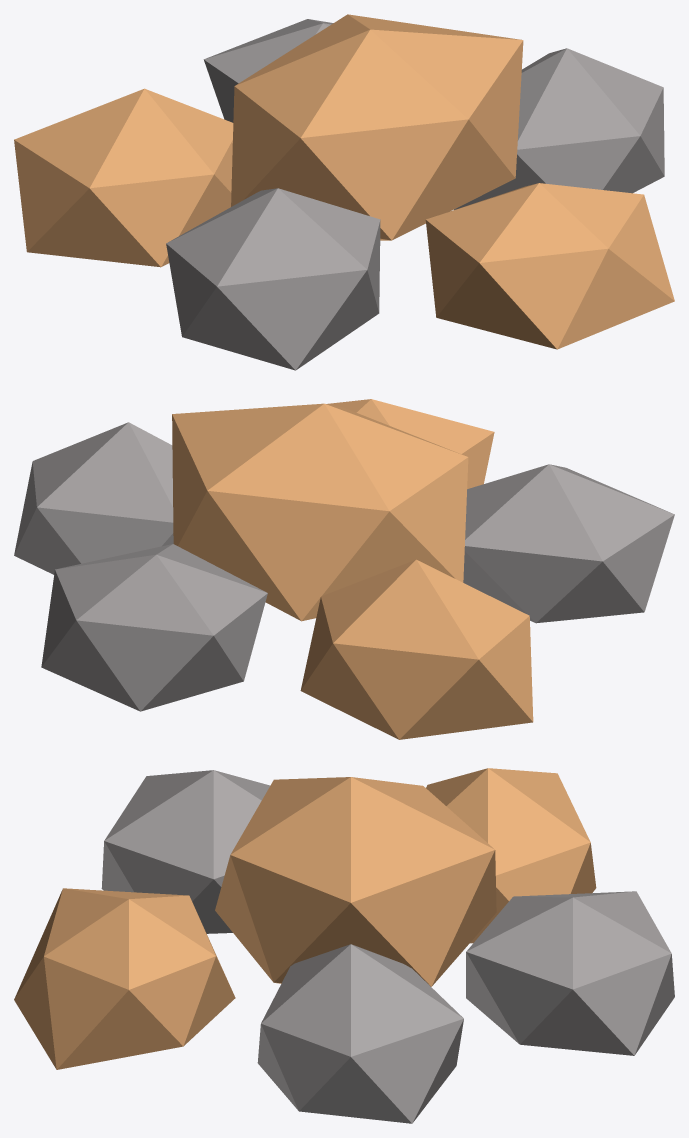
Rendered from ore_pile.glb.
3 views of the same model, one above another, from view 1: azimuth 30°, elevation 25°; view 2: azimuth 150°, elevation 25°; view 3: azimuth 270°, elevation 25° (orthographic). The views are drawn at different scales.
Visible parts, largest first — view 1: ore_pile; view 2: ore_pile; view 3: ore_pile.
Boxes of the visible parts, left/top/right/bottom form: ore_pile: left=14, top=14, right=674, bottom=370; ore_pile: left=14, top=399, right=674, bottom=739; ore_pile: left=14, top=768, right=674, bottom=1123.
Bounding box in the file's own units: 0.5796 × 0.2184 × 0.5664.
